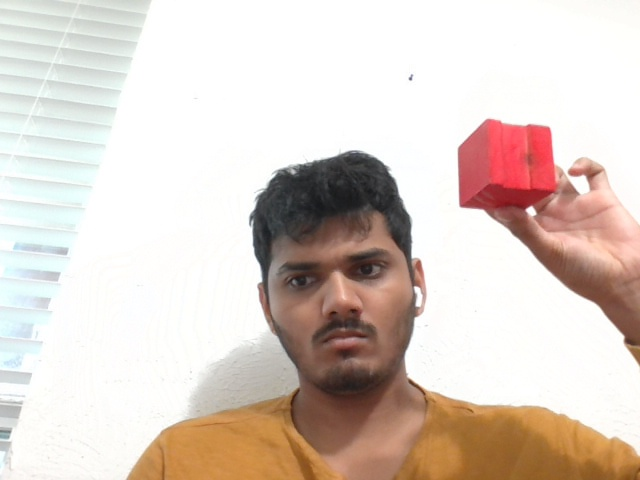RedBlock: (457, 117, 556, 209)
